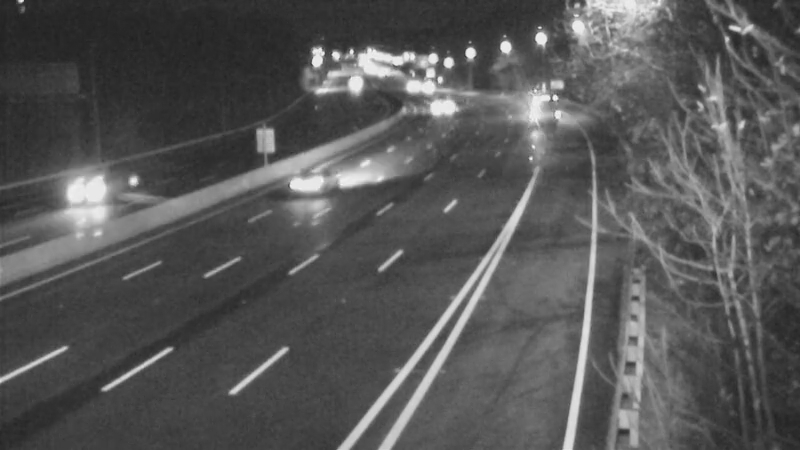vehicle: (265, 147, 345, 227), (48, 155, 128, 235), (379, 58, 429, 108), (404, 63, 454, 113), (521, 79, 571, 129), (415, 81, 465, 131)
